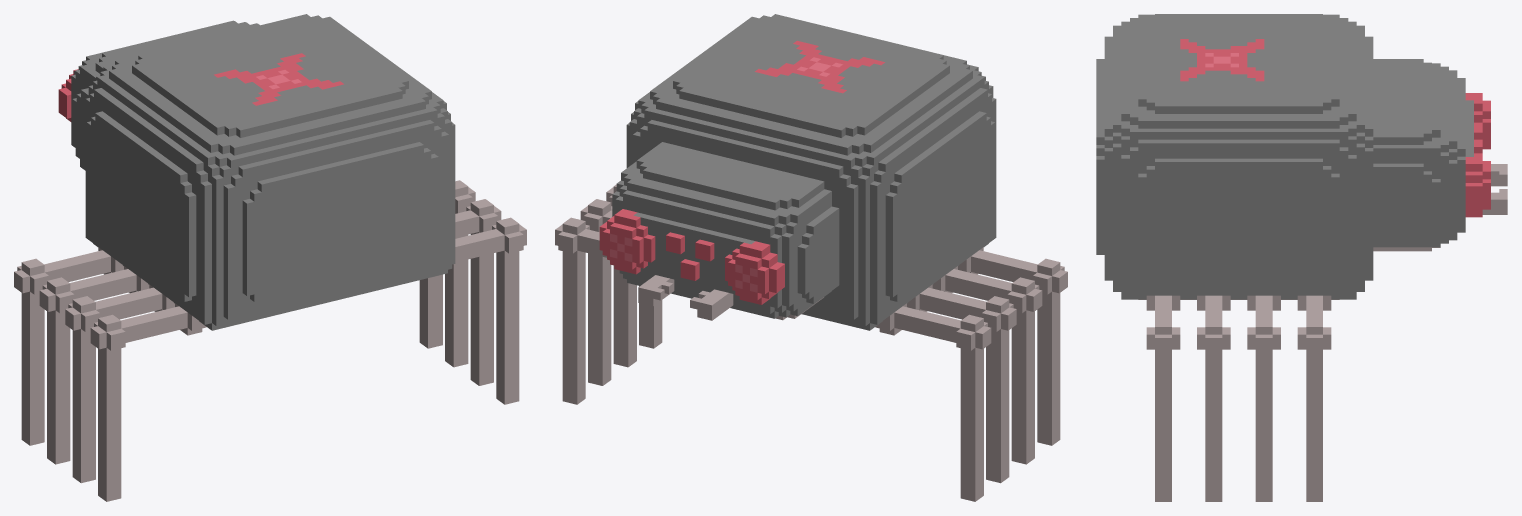
The model's file is SpiderEnemy.obj.
The picture shows the model from 3 angles, left to right: view 1: azimuth 30°, elevation 25°; view 2: azimuth 150°, elevation 25°; view 3: azimuth 270°, elevation 25°; orthographic projection.
Bounding box in the file's own units: 58 × 45 × 49.
